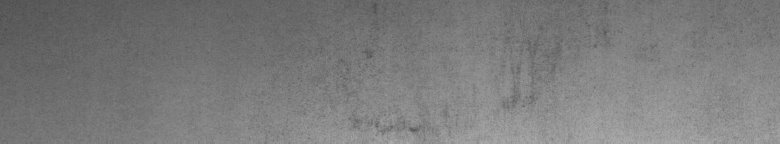ib: (329, 4, 428, 136)
